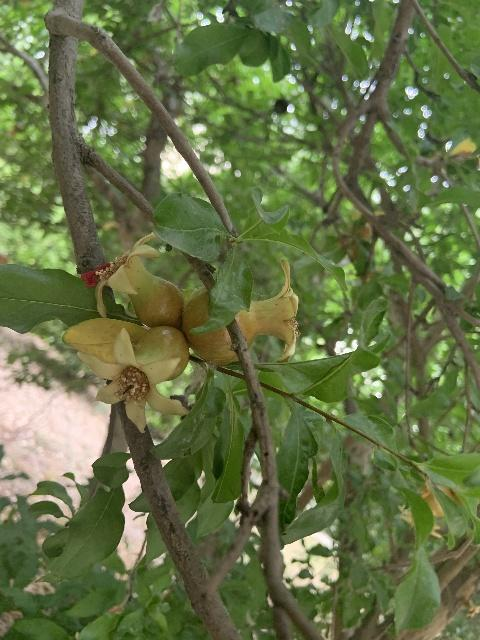early-fruit: (75, 321, 190, 434), (185, 259, 299, 365), (88, 234, 183, 329)
